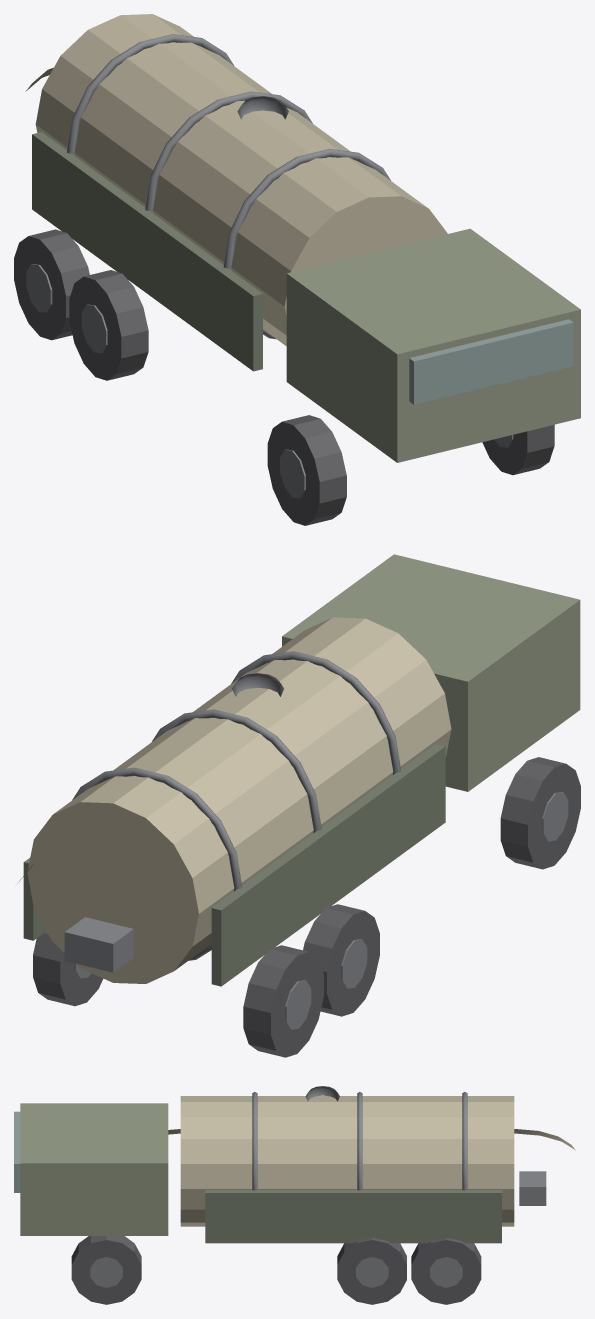
Rendered from 3-armoured-column-and-field-camp-fuel-tanker-3c9eb52e.glb.
The picture shows the model from 3 angles, top to bottom: view 1: azimuth 30°, elevation 25°; view 2: azimuth 150°, elevation 25°; view 3: azimuth 270°, elevation 25°; orthographic projection. The views are drawn at different scales.
Parts seen in each view (by area): view 1: fuel-tanker; view 2: fuel-tanker; view 3: fuel-tanker.
Part boxes in pixels (x1,y1,x2,y2): fuel-tanker: (14,14,580,525); fuel-tanker: (17,554,580,1057); fuel-tanker: (14,1086,575,1304).
Size of the model in its own units: 2.96 by 3.2 by 9.18.
